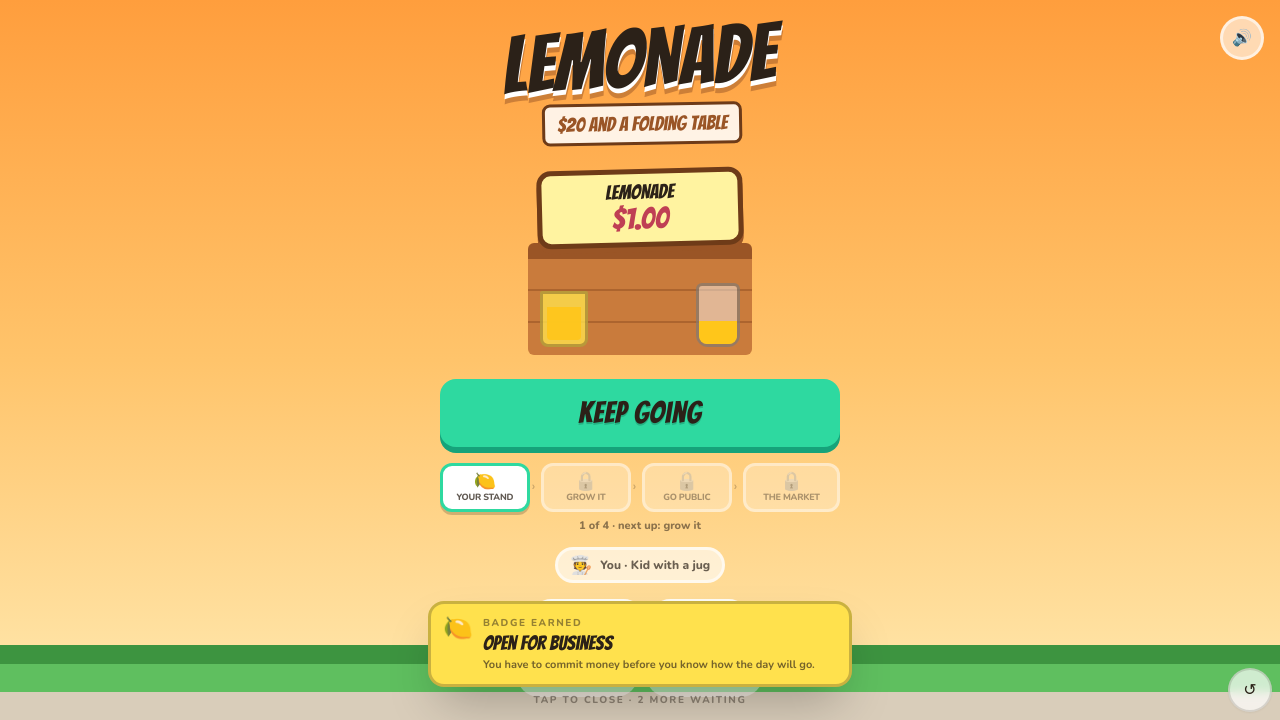
Test case: picking the game back up › still resumes mid-week on the morning, which is the whole point
This screenshot has width=1280, height=720.
Click the button with aria-label "Dismiss": (640, 661) x1=416 y1=601 x2=864 y2=719
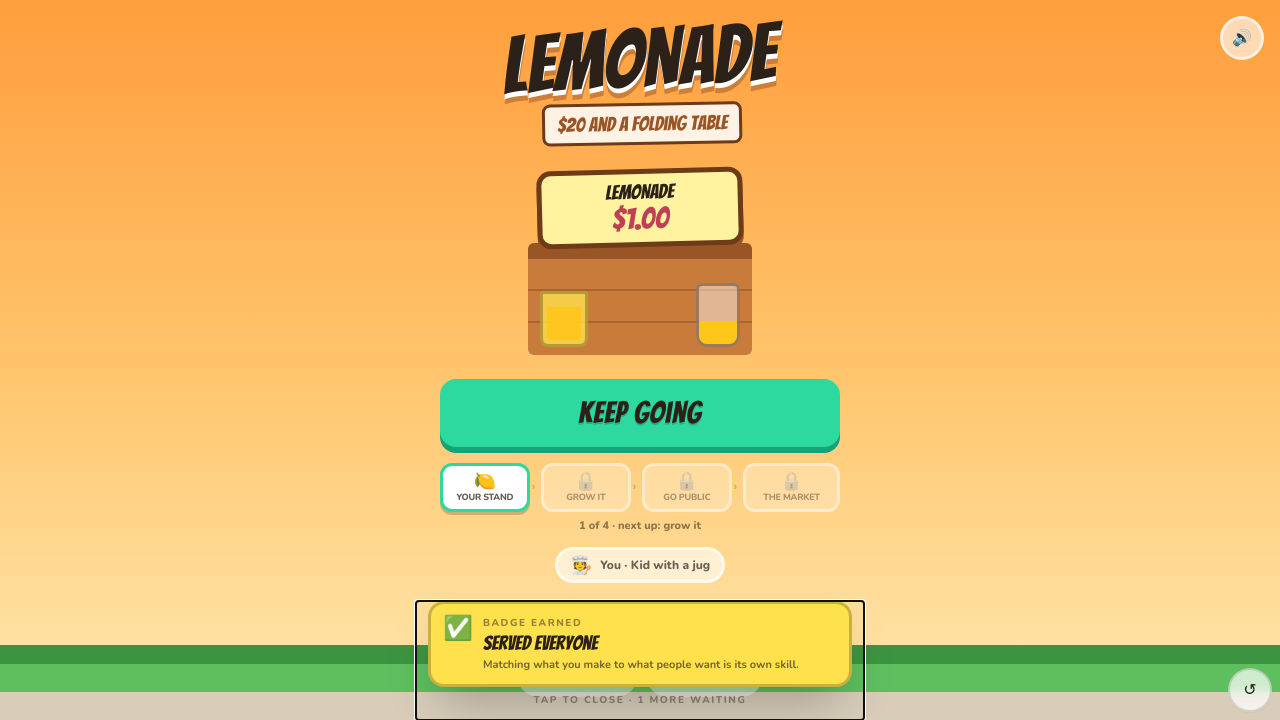
Click the button with aria-label "Dismiss": (640, 661) x1=416 y1=601 x2=864 y2=719
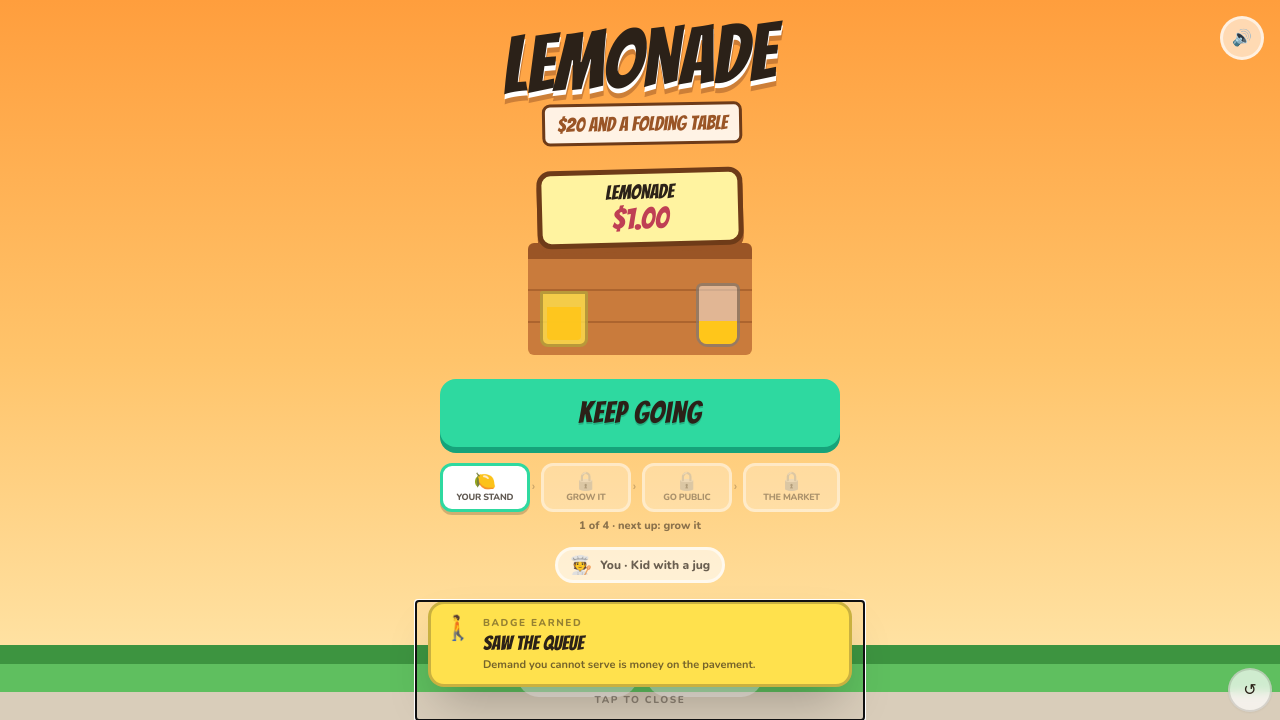
Click the button with aria-label "Dismiss": (640, 661) x1=416 y1=601 x2=864 y2=719
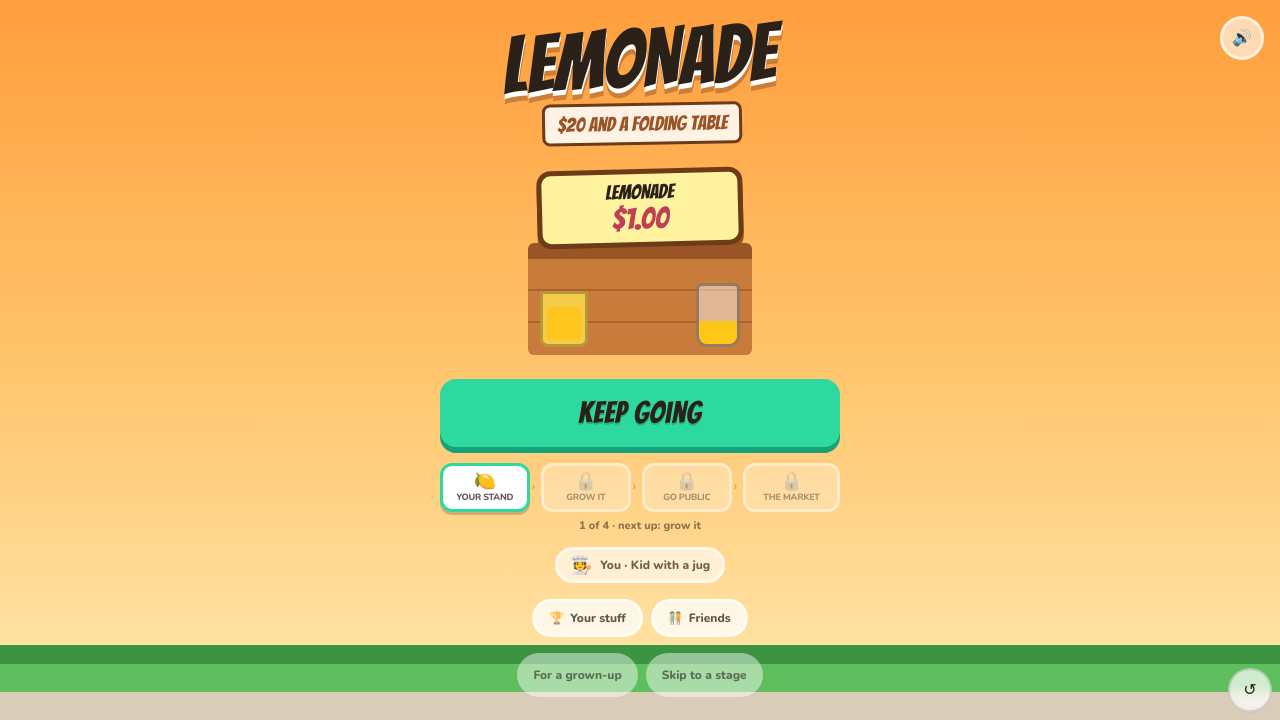
Click the button "Keep going": (640, 413) x1=440 y1=379 x2=840 y2=447
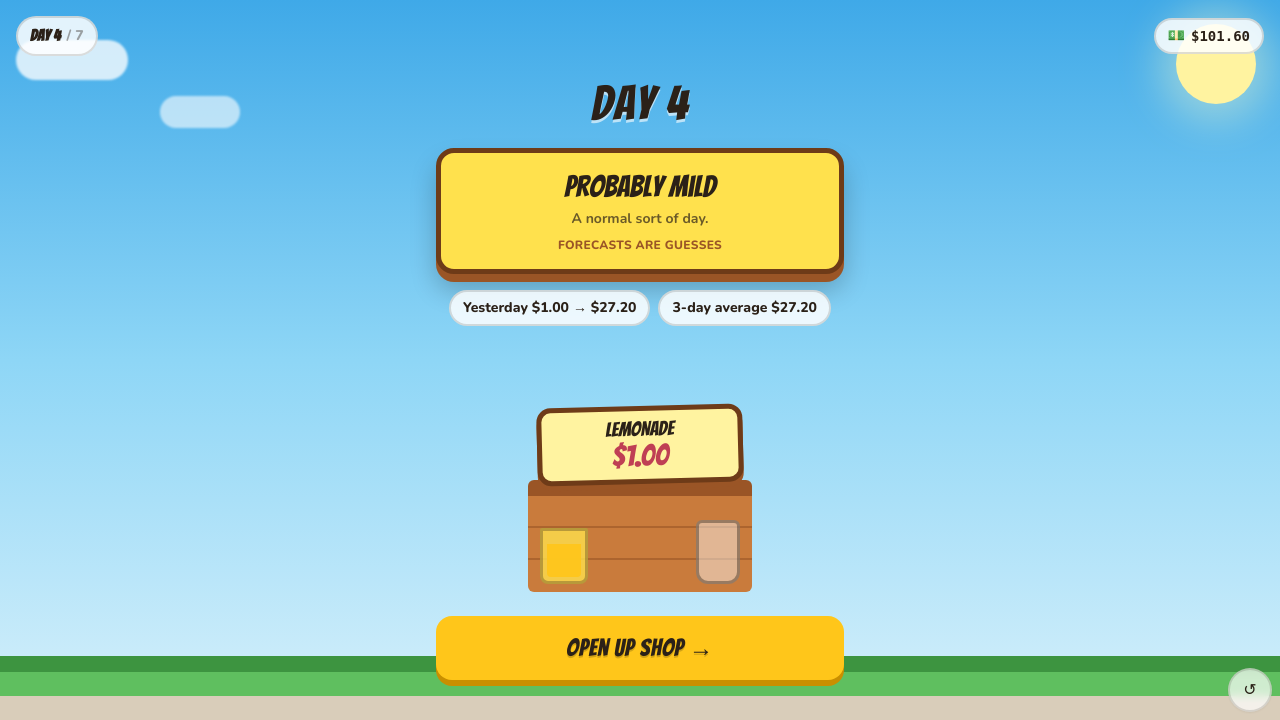
Check: the button "Open up shop →" is shown, box x1=436 y1=616 x2=844 y2=680
